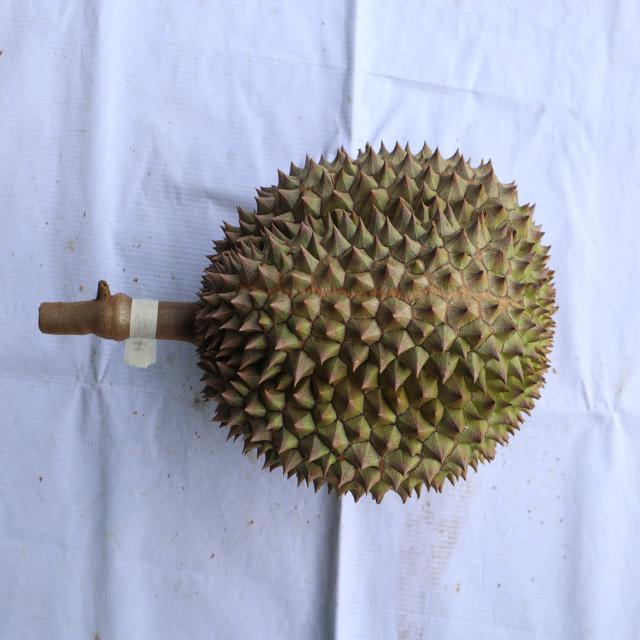mature: (190, 140, 560, 502)
